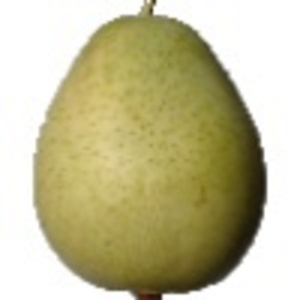pera: (30, 1, 268, 300)
